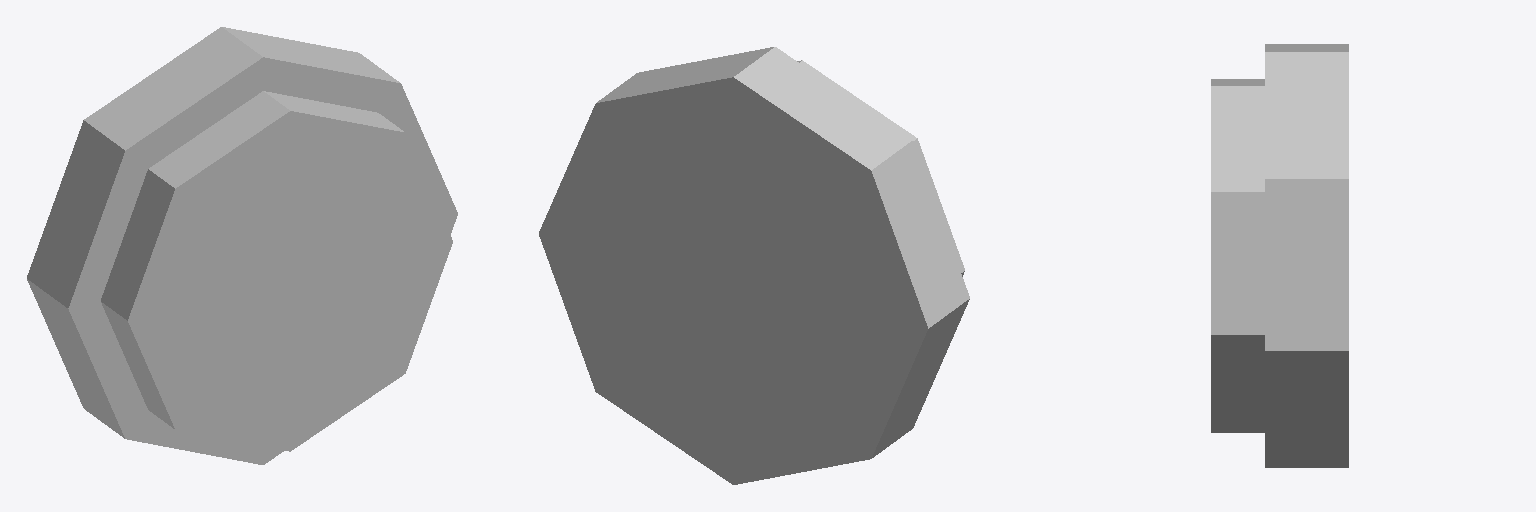
Rendered from button_04.obj.
The picture shows the model from 3 angles: view 1: azimuth 30°, elevation 25°; view 2: azimuth 150°, elevation 25°; view 3: azimuth 270°, elevation 25°; orthographic projection.
Visible parts, largest first — view 1: Cylinder.001; view 2: Cylinder.001; view 3: Cylinder.001.
Boxes of the visible parts, x1=… form: Cylinder.001: x1=27, y1=27, x2=457, y2=464; Cylinder.001: x1=539, y1=47, x2=969, y2=484; Cylinder.001: x1=1211, y1=44, x2=1348, y2=467.
Size of the model in its own units: 0.2053 by 0.2053 by 0.063.